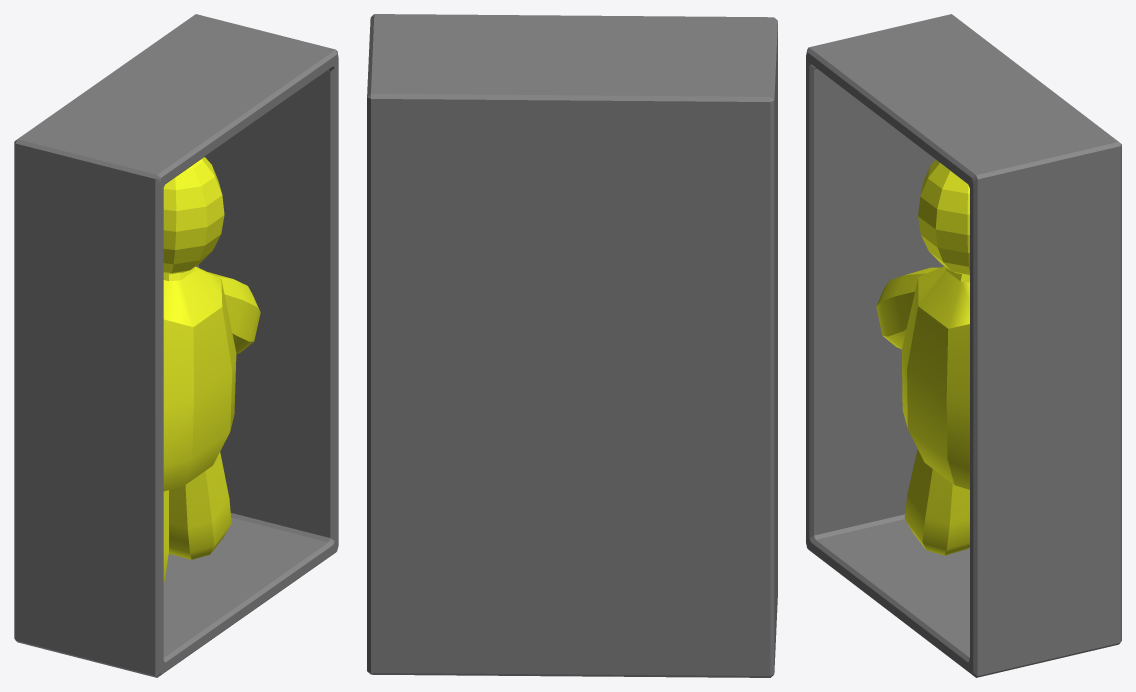
The model's file is Toys_Doll.fbx.
3 views of the same model, side by side, from view 1: azimuth 30°, elevation 25°; view 2: azimuth 150°, elevation 25°; view 3: azimuth 270°, elevation 25° (orthographic). The views are drawn at different scales.
Visible parts, largest first — view 1: pasted__polySurface14; view 2: pasted__polySurface14; view 3: pasted__polySurface14.
Part boxes in pixels (bbox=[...]): pasted__polySurface14: bbox=[14, 14, 338, 677]; pasted__polySurface14: bbox=[367, 14, 777, 677]; pasted__polySurface14: bbox=[806, 14, 1121, 677].
Size of the model in its own units: 0.4497 by 0.6438 by 0.3665.
